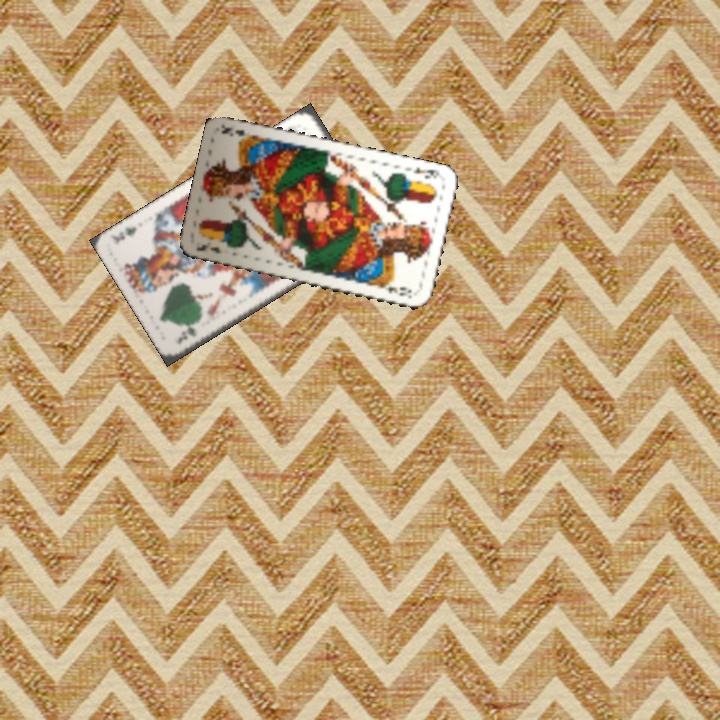EK: (409, 163, 442, 182), (192, 241, 224, 256)
GK: (173, 323, 199, 347)
